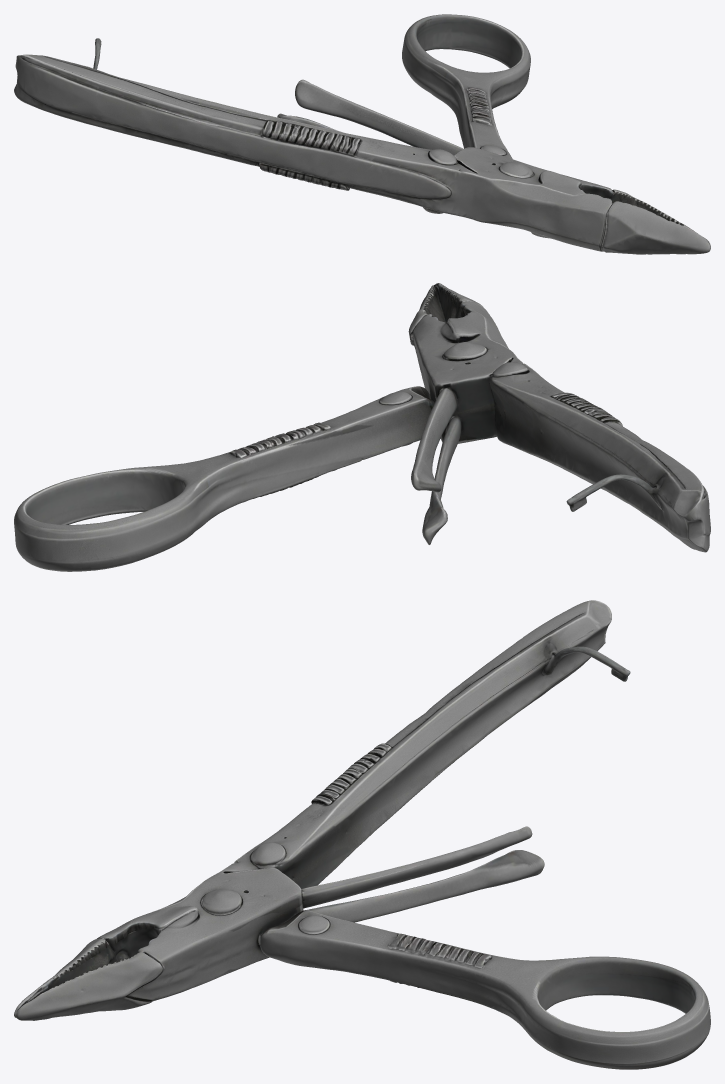
3 renders of one model, top to bottom at view 1: azimuth 30°, elevation 25°; view 2: azimuth 150°, elevation 25°; view 3: azimuth 270°, elevation 25°, orthographic. The views are drawn at different scales.
Parts seen in each view (by area): view 1: tripo_node_055252c0-7b3e-49c9-bfb4-53d993fffe0b; view 2: tripo_node_055252c0-7b3e-49c9-bfb4-53d993fffe0b; view 3: tripo_node_055252c0-7b3e-49c9-bfb4-53d993fffe0b.
Part boxes in pixels (<box>): tripo_node_055252c0-7b3e-49c9-bfb4-53d993fffe0b: <box>14,14,710,254</box>; tripo_node_055252c0-7b3e-49c9-bfb4-53d993fffe0b: <box>14,283,710,571</box>; tripo_node_055252c0-7b3e-49c9-bfb4-53d993fffe0b: <box>14,600,710,1069</box>.
Size of the model in its own units: 1 by 0.2694 by 0.9713.
Materials: 1 (1 with a texture image).
